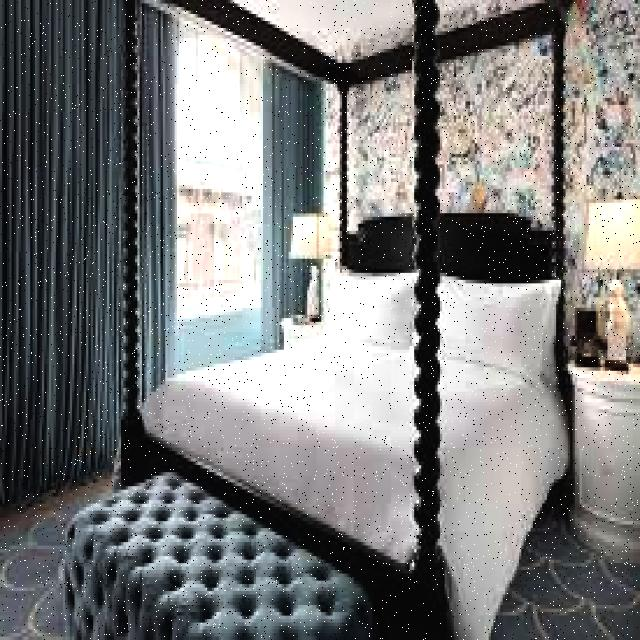bed: (119, 207, 568, 530)
